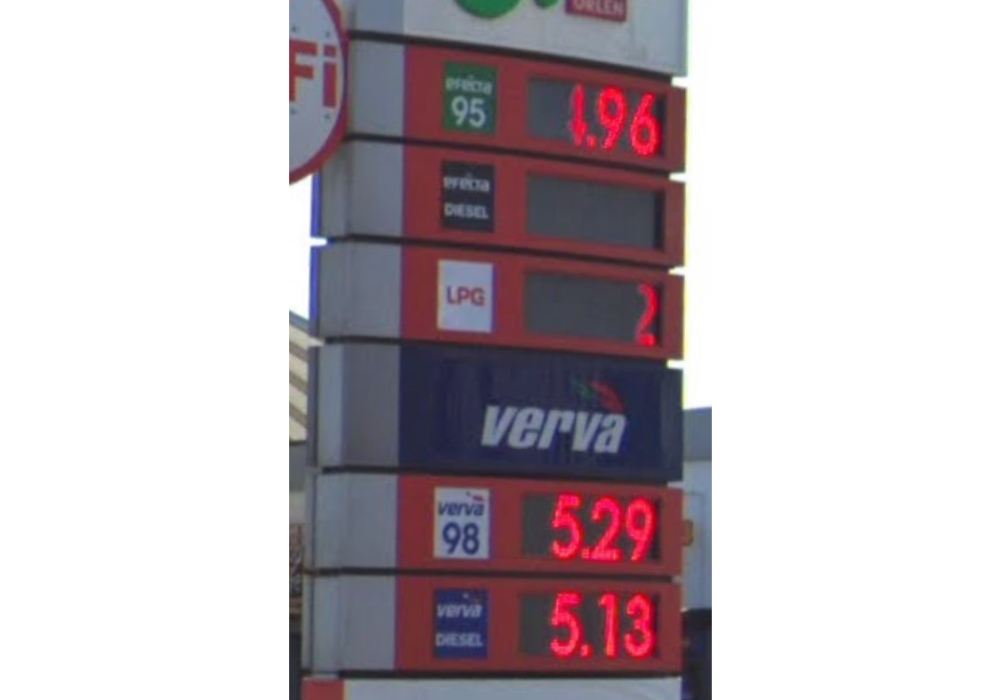LPG: (430, 252, 497, 335)
PB95: (440, 58, 498, 133)
PB98: (429, 481, 492, 564)
